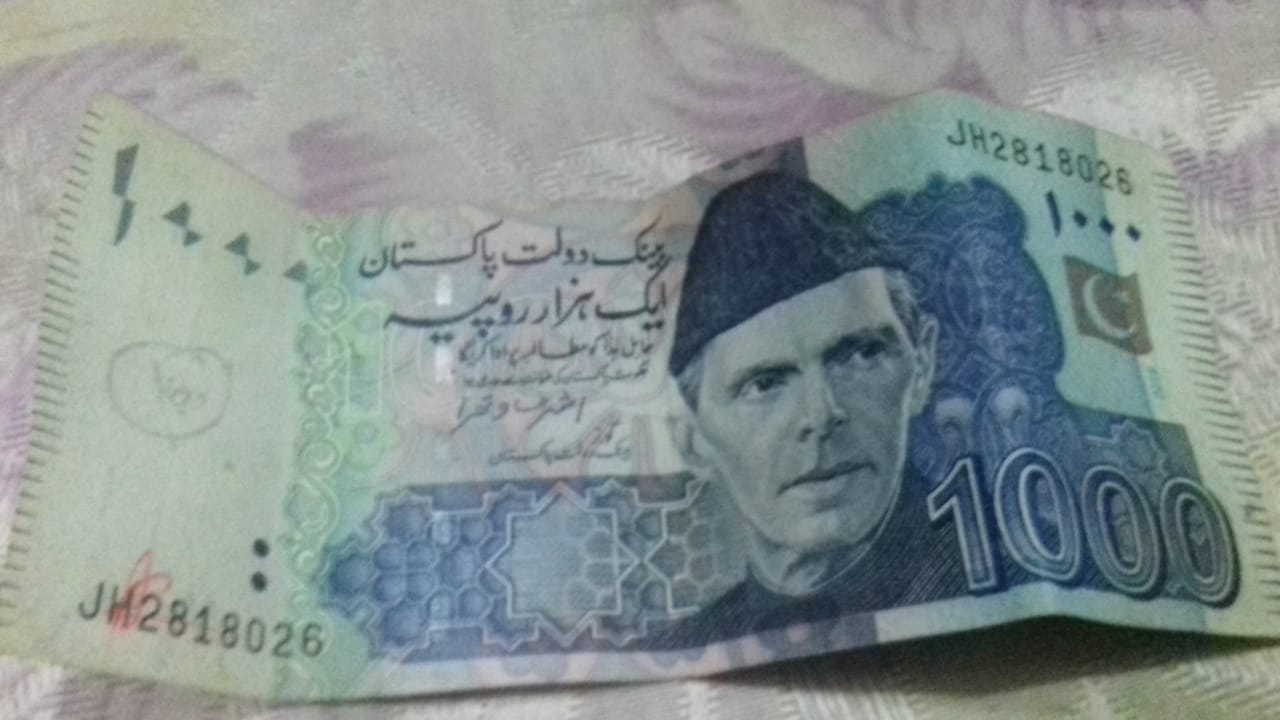1000 rupee: (38, 54, 1242, 656)
